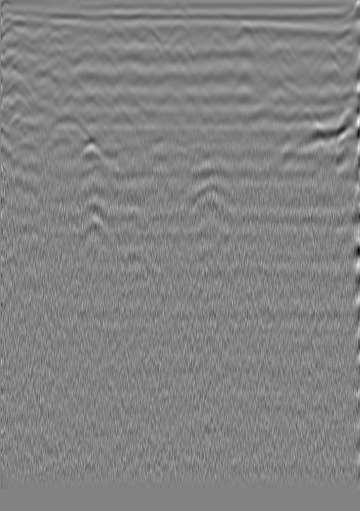가스: (69, 137, 112, 170)
상수: (301, 22, 321, 42)
오수: (29, 23, 49, 43)
우수: (171, 21, 191, 41)
